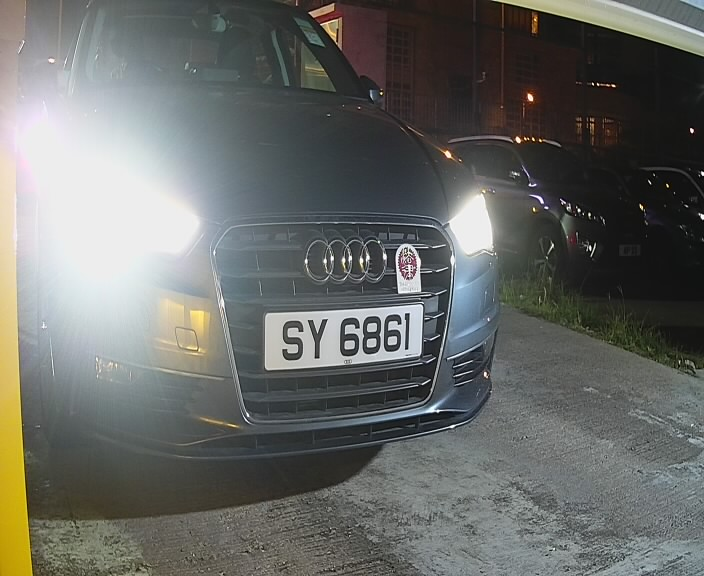License Plate: (254, 296, 430, 384)
